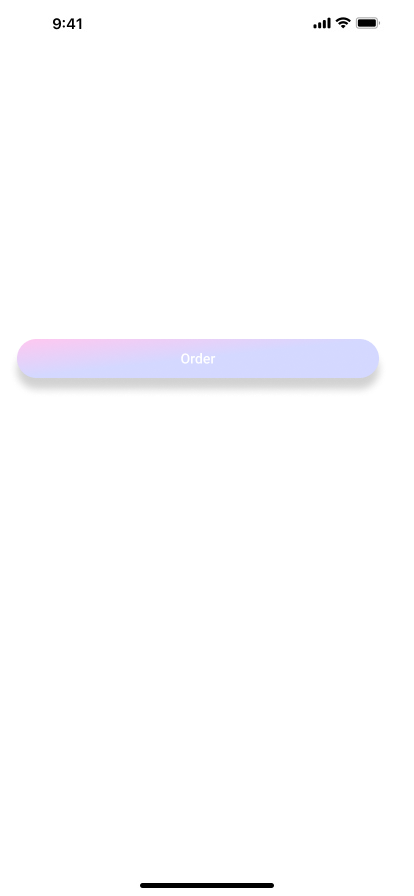Buttons: (8, 339, 388, 398)
Home Indicator: (0, 862, 414, 896)
Status Bar: (0, 0, 414, 44)
